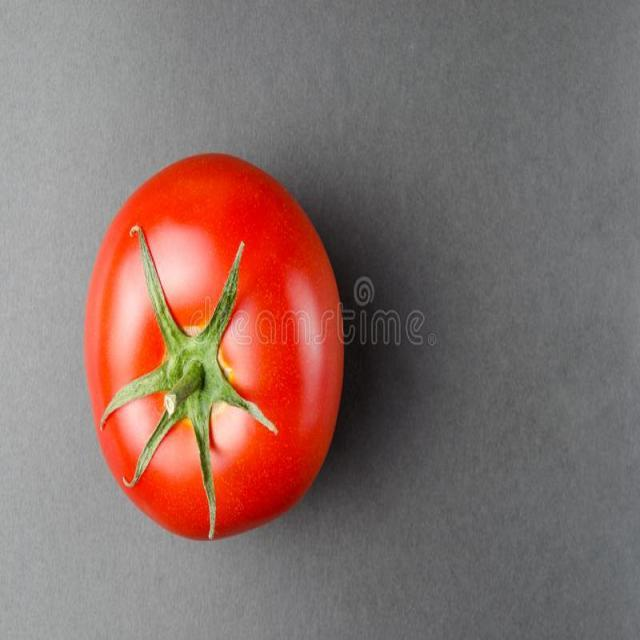kirmizi: (60, 150, 378, 536)
